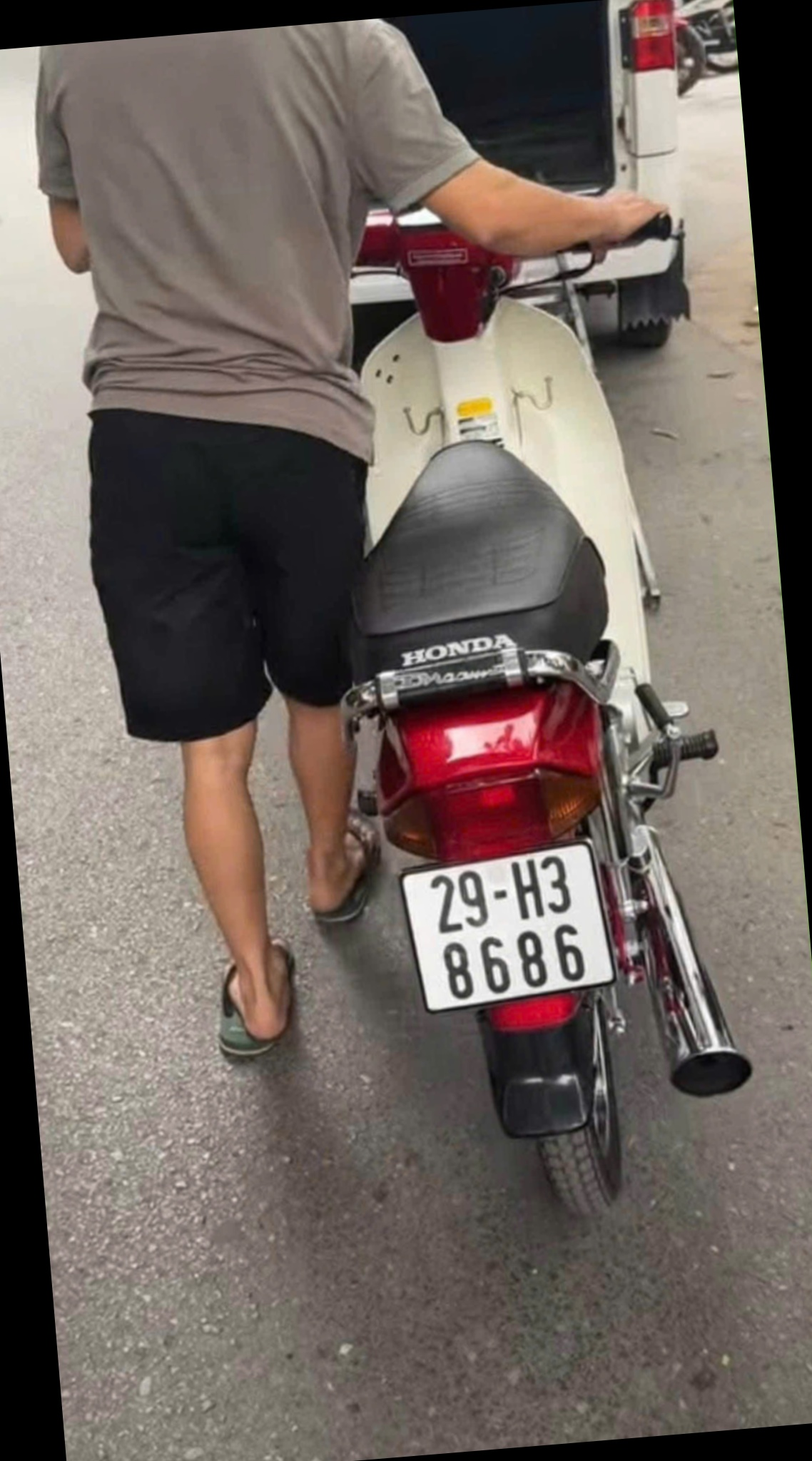Bien-so: (399, 841, 608, 1013)
